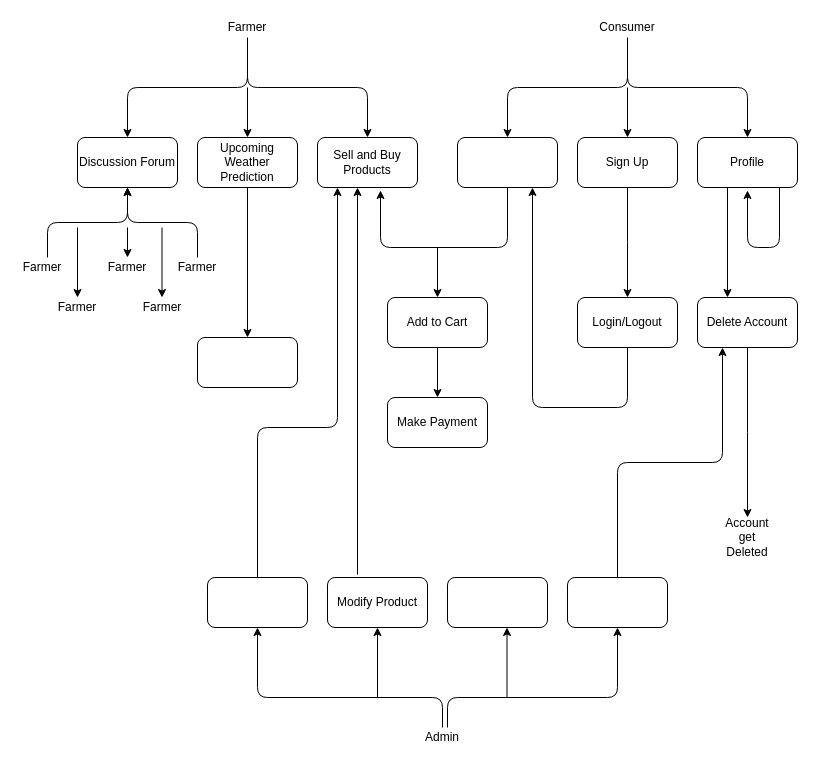
Some shapes in this 815 by 764 pixel diagram are drawn without their labels. The shapes that lost their labels are listed below. From the top down, each one's centre as x and y in pixels, then its label:
[507,162]: Search Products Catelog
[247,362]: Make Decision which crop should grow
[257,602]: Add Product
[497,602]: Block / Unblock Accounts
[617,602]: Give Permission
